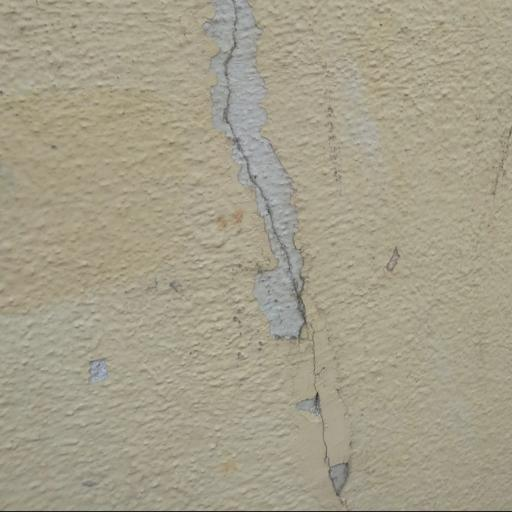peeling: (183, 11, 371, 511)
